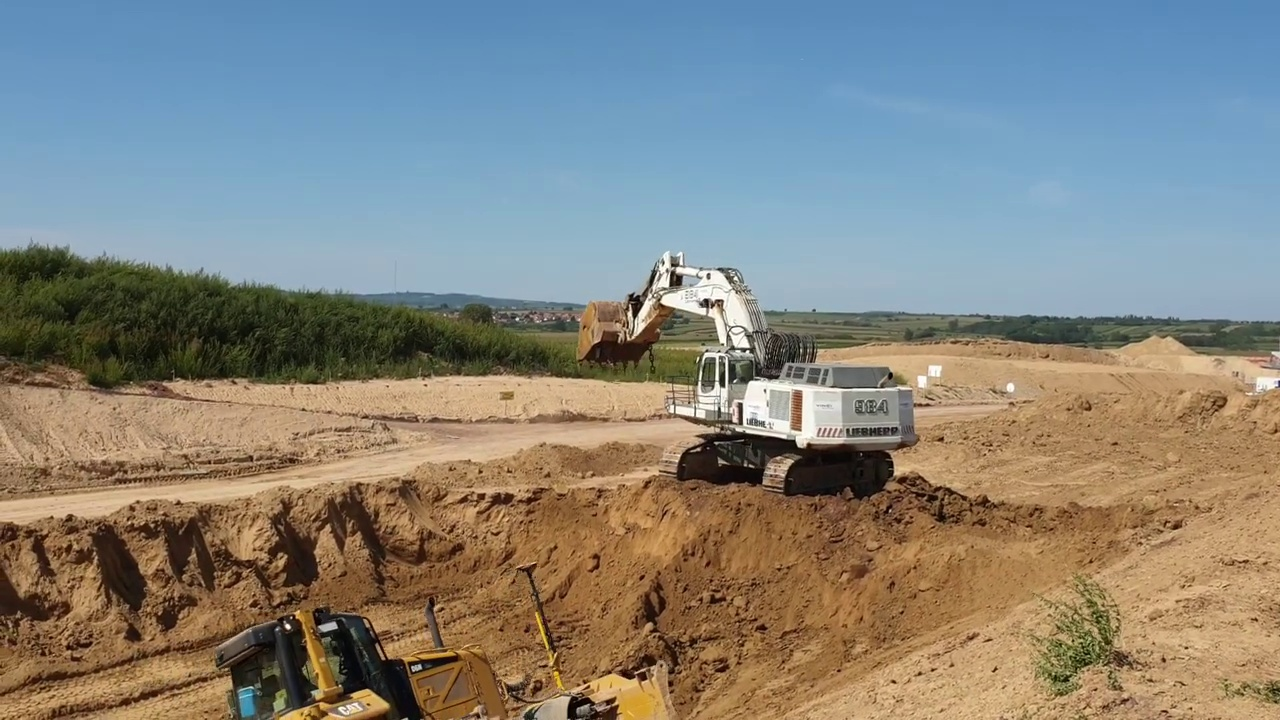bulldozer: (211, 557, 685, 720)
excavator: (570, 245, 922, 502)
